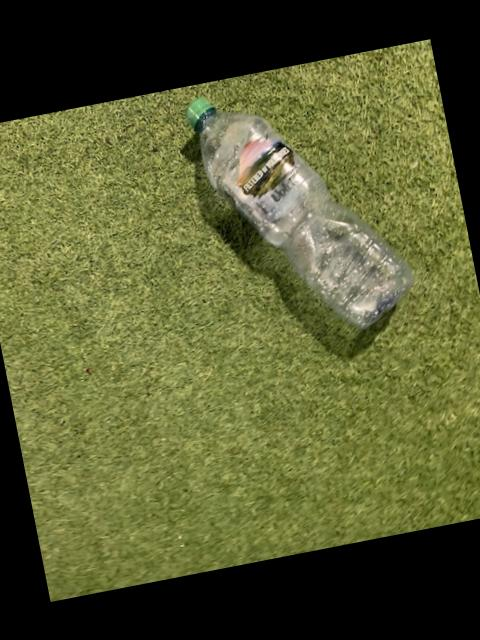plastic: (184, 100, 410, 329)
